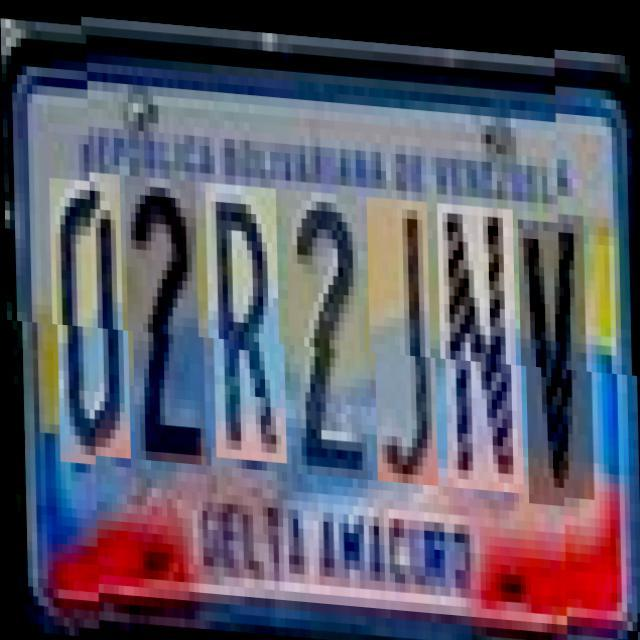0: (54, 168, 128, 456)
2: (290, 185, 366, 473), (130, 174, 204, 462)
J: (371, 191, 436, 478)
N: (442, 196, 522, 484)
R: (210, 179, 285, 458)
V: (522, 210, 592, 498)
